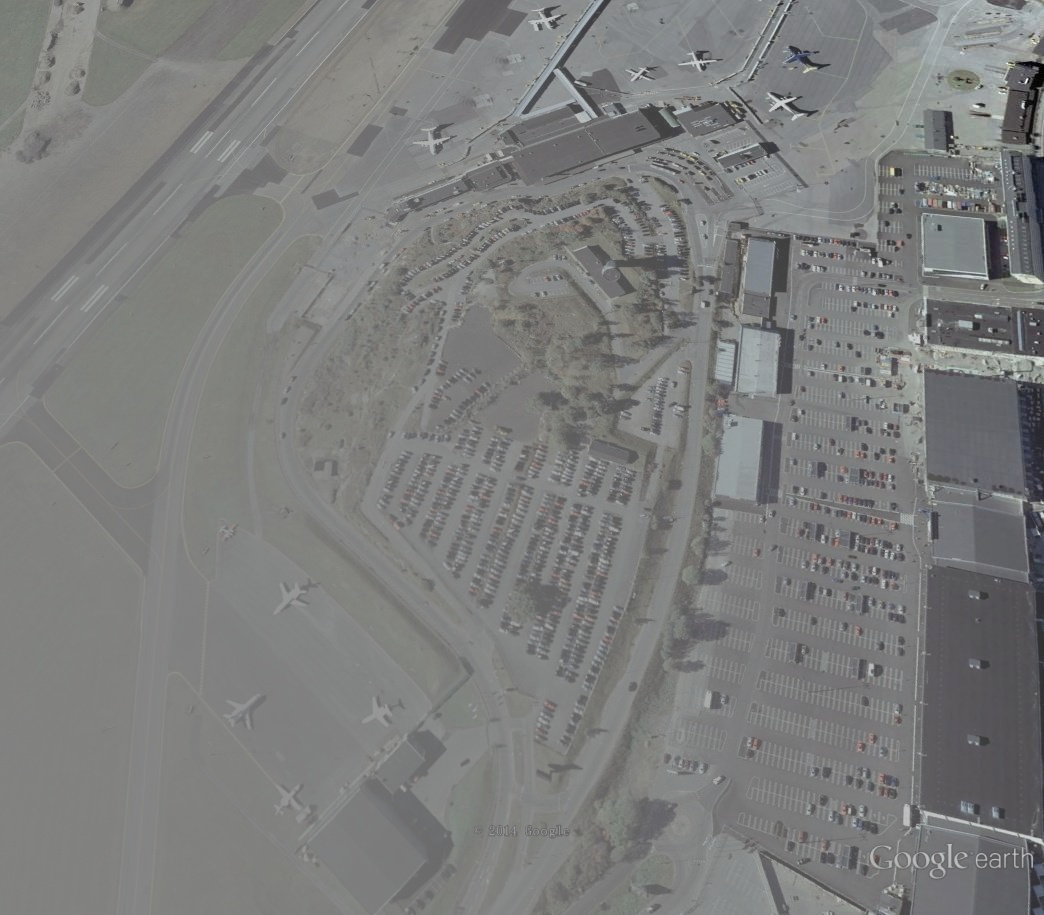aircraft: (268, 782, 315, 827), (223, 693, 270, 734), (411, 124, 458, 159), (272, 581, 313, 617), (780, 44, 823, 78), (765, 90, 809, 121), (361, 694, 397, 731), (676, 49, 723, 76), (525, 6, 565, 31), (625, 65, 657, 84), (217, 525, 241, 547)
